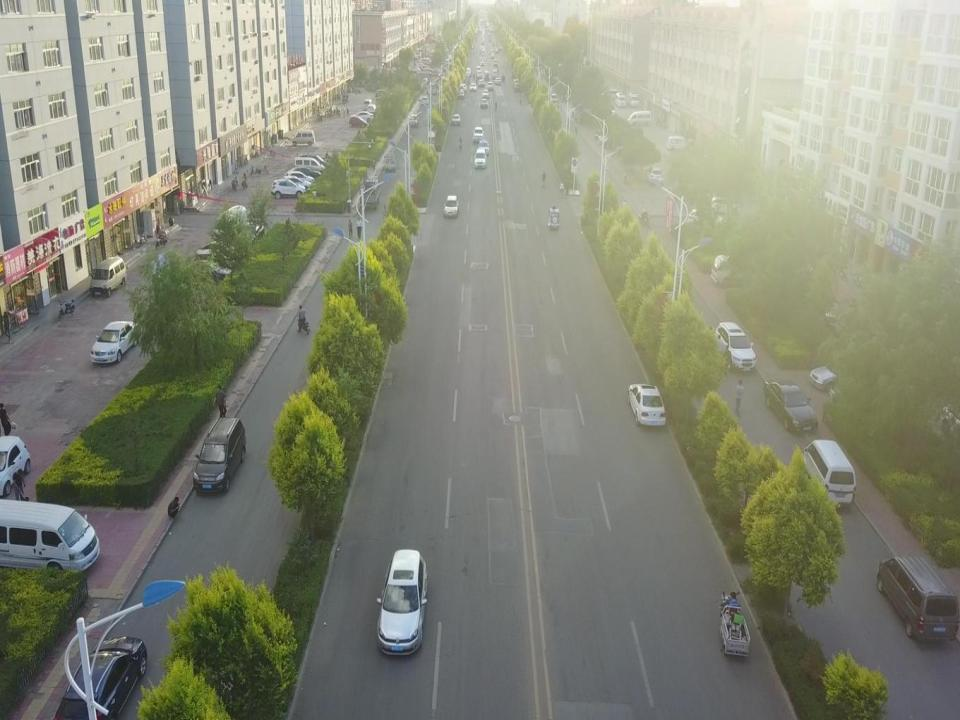car: (54, 632, 150, 720), (0, 498, 102, 575), (875, 555, 958, 647), (377, 546, 427, 656), (193, 418, 246, 495), (801, 438, 856, 507), (764, 380, 818, 437), (91, 319, 142, 363), (716, 322, 757, 373), (0, 438, 31, 491), (627, 384, 665, 427), (710, 254, 754, 287), (91, 256, 127, 295), (213, 206, 249, 238), (185, 261, 233, 283), (196, 241, 239, 263), (271, 180, 308, 200), (294, 155, 326, 173), (288, 166, 323, 180), (279, 175, 311, 190), (284, 170, 316, 185), (443, 194, 459, 217), (292, 130, 314, 146), (301, 152, 326, 166), (474, 148, 486, 168), (349, 115, 367, 128), (354, 111, 374, 122), (472, 125, 484, 142), (375, 88, 392, 99), (479, 138, 489, 154), (615, 92, 625, 106), (608, 88, 620, 99), (451, 114, 461, 126), (409, 113, 418, 126), (420, 95, 428, 105), (456, 89, 464, 99), (480, 98, 488, 107), (487, 81, 495, 90), (366, 104, 376, 111), (470, 82, 477, 92), (457, 83, 464, 92), (482, 89, 489, 97), (513, 78, 520, 86), (422, 76, 427, 86), (364, 99, 372, 105), (495, 76, 501, 84), (479, 79, 485, 87), (465, 67, 471, 75), (514, 82, 519, 89), (485, 70, 489, 77), (476, 70, 480, 76), (494, 59, 497, 67), (476, 65, 480, 71), (481, 58, 484, 65), (493, 70, 497, 75), (491, 52, 494, 57)
truck: (359, 176, 380, 209), (385, 152, 396, 172)
